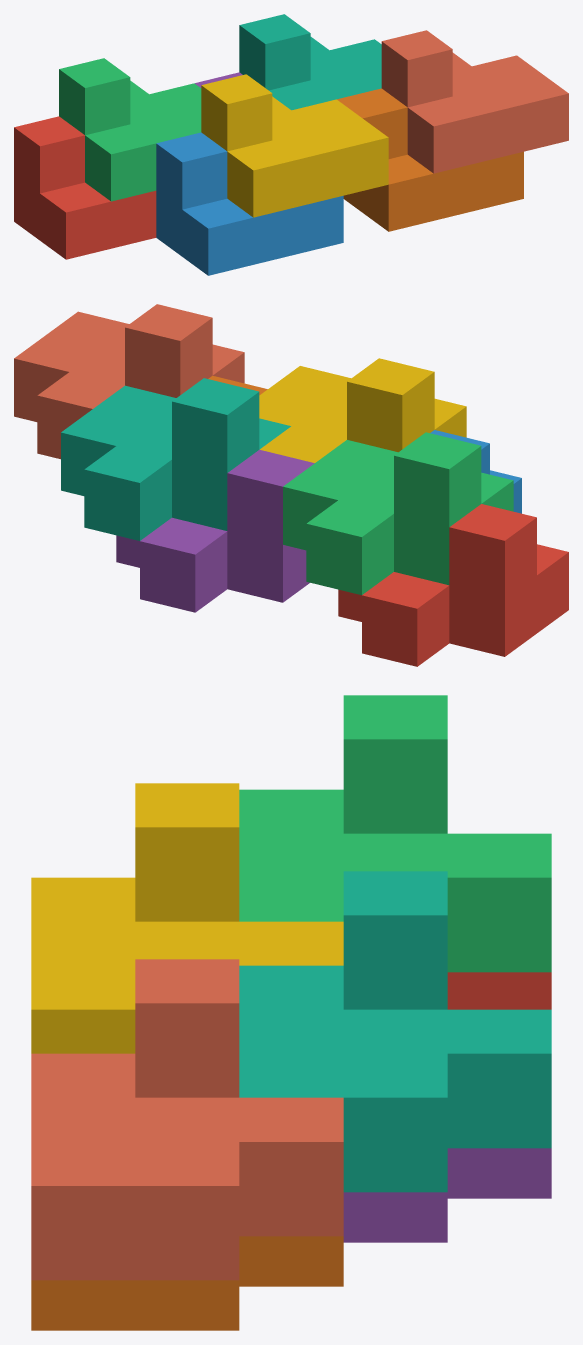
File: tiling.obj
3 renders of one model, top to bottom at view 1: azimuth 30°, elevation 25°; view 2: azimuth 150°, elevation 25°; view 3: azimuth 270°, elevation 25°, orthographic. The views are drawn at different scales.
Parts seen in each view (by area): view 1: copy_1_domain_8, copy_1_domain_4, copy_1_domain_2, copy_1_domain_3, copy_1_domain_1, copy_1_domain_6, copy_1_domain_7; view 2: copy_1_domain_3, copy_1_domain_7, copy_1_domain_1, copy_1_domain_8, copy_1_domain_5, copy_1_domain_4, copy_1_domain_2; view 3: copy_1_domain_8, copy_1_domain_7, copy_1_domain_3, copy_1_domain_4, copy_1_domain_6, copy_1_domain_5, copy_1_domain_1.
Boxes of the visible parts, x1=… form: copy_1_domain_8: x1=381, y1=30, x2=568, y2=173; copy_1_domain_4: x1=201, y1=74, x2=388, y2=217; copy_1_domain_2: x1=156, y1=132, x2=343, y2=275; copy_1_domain_3: x1=59, y1=58, x2=201, y2=201; copy_1_domain_1: x1=14, y1=116, x2=156, y2=259; copy_1_domain_6: x1=337, y1=88, x2=523, y2=231; copy_1_domain_7: x1=239, y1=14, x2=381, y2=110; copy_1_domain_3: x1=283, y1=432, x2=513, y2=595; copy_1_domain_7: x1=61, y1=378, x2=290, y2=540; copy_1_domain_1: x1=338, y1=504, x2=568, y2=666; copy_1_domain_8: x1=14, y1=304, x2=244, y2=459; copy_1_domain_5: x1=116, y1=449, x2=314, y2=612; copy_1_domain_4: x1=259, y1=358, x2=466, y2=462; copy_1_domain_2: x1=430, y1=430, x2=521, y2=513; copy_1_domain_8: x1=31, y1=959, x2=343, y2=1280; copy_1_domain_7: x1=239, y1=871, x2=551, y2=1192; copy_1_domain_3: x1=239, y1=695, x2=551, y2=972; copy_1_domain_4: x1=31, y1=783, x2=343, y2=1053; copy_1_domain_6: x1=31, y1=1236, x2=343, y2=1330; copy_1_domain_5: x1=343, y1=1148, x2=551, y2=1242; copy_1_domain_1: x1=447, y1=972, x2=551, y2=1009.
Bounding box in the file's own units: 10 × 3 × 5.
